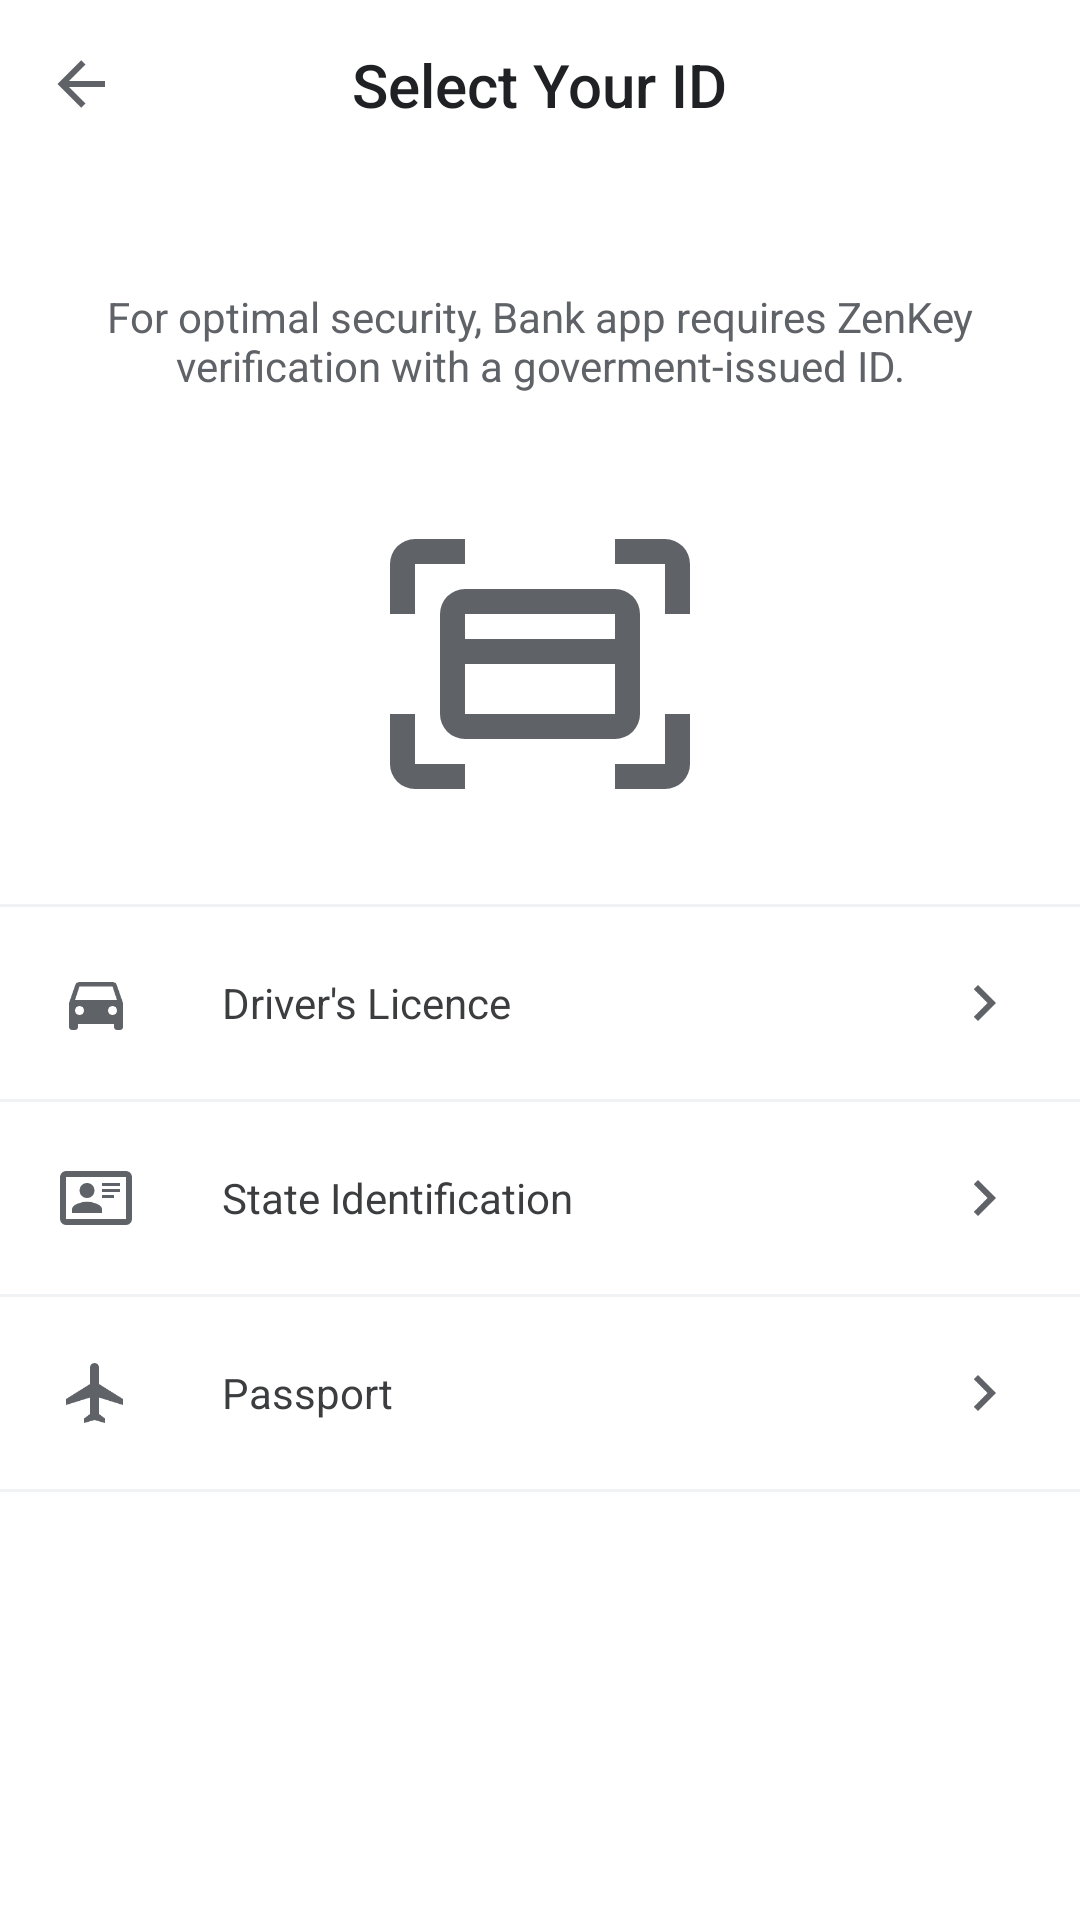

Screen size 1080px x 1920px. Icon name, then its box in pixels as region(x1, y1, x2, y2):
arrow left: region(58, 60, 105, 108)
credit card scan: region(390, 539, 690, 789)
